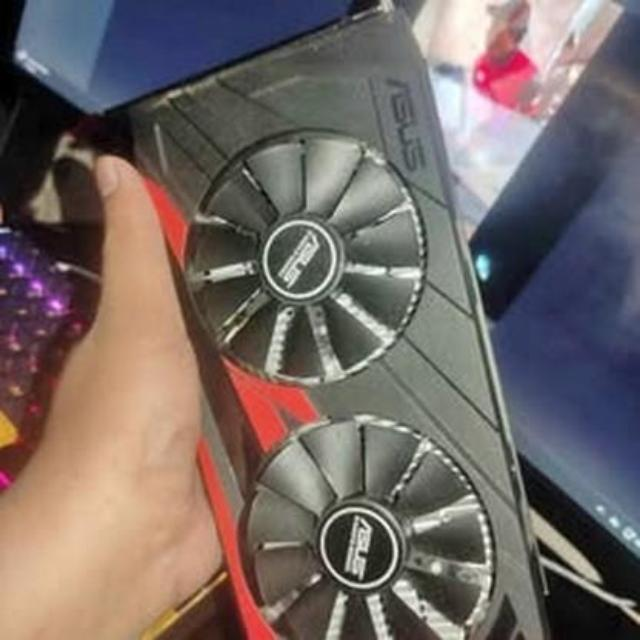GPU: (130, 12, 548, 640)
